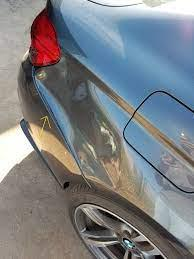quaterpanel-dent: (65, 82, 174, 247)
